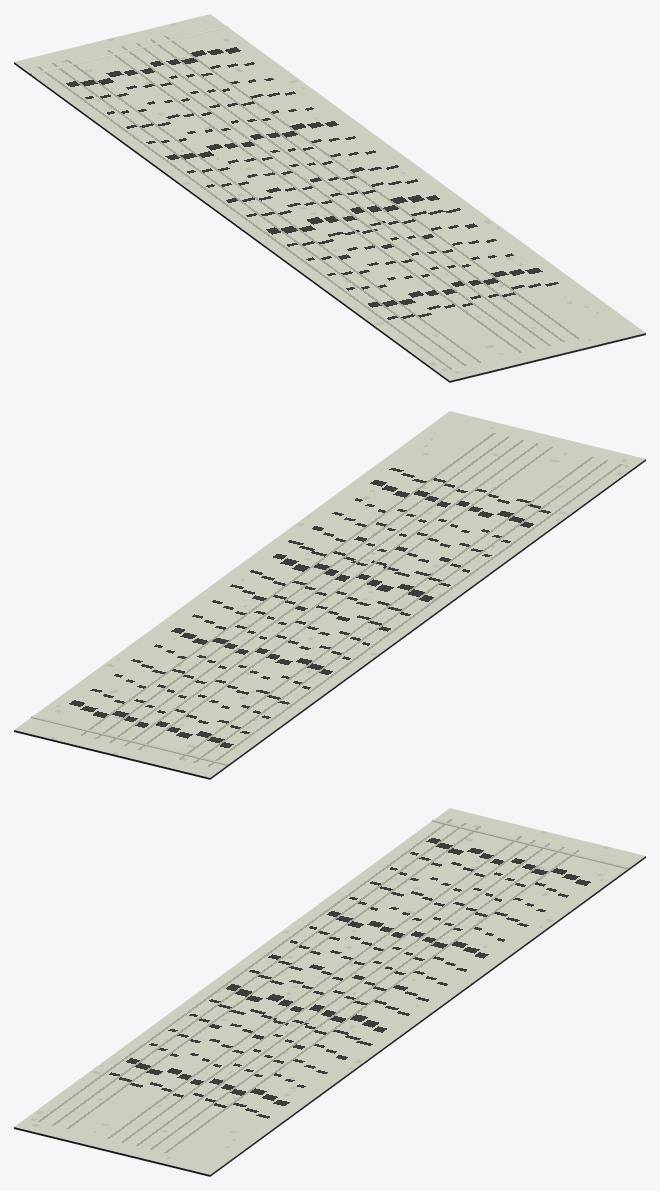
File: large_printout_portal_storm_data.glb
The picture shows the model from 3 angles, top to bottom: view 1: azimuth 30°, elevation 25°; view 2: azimuth 150°, elevation 25°; view 3: azimuth 330°, elevation 25°; orthographic projection.
Visible parts, largest first — view 1: block_printed paper, block_curled end; view 2: block_printed paper, block_curled end; view 3: block_printed paper, block_curled end.
Boxes of the visible parts, x1,y1,x2,y2 form: block_printed paper: (14, 14, 645, 382); block_curled end: (30, 25, 228, 76); block_printed paper: (14, 411, 645, 779); block_curled end: (30, 716, 228, 765); block_printed paper: (14, 808, 645, 1176); block_curled end: (431, 819, 629, 869).
Bounding box in the file's own units: 0.1118 × 0.00177 × 0.43.
Materials: 1 (1 with a texture image).
